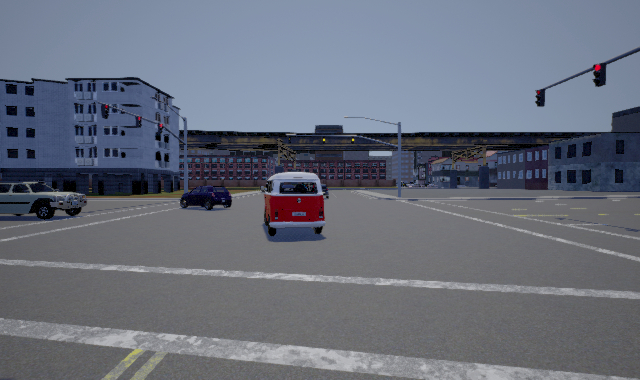traffic_light: (592, 63, 606, 87), (535, 89, 545, 107), (101, 104, 109, 119), (135, 116, 142, 128), (157, 123, 163, 134), (288, 135, 291, 144), (351, 136, 354, 144), (322, 136, 325, 144)
vehicle: (260, 172, 324, 235), (1, 180, 87, 220), (180, 185, 232, 210)
